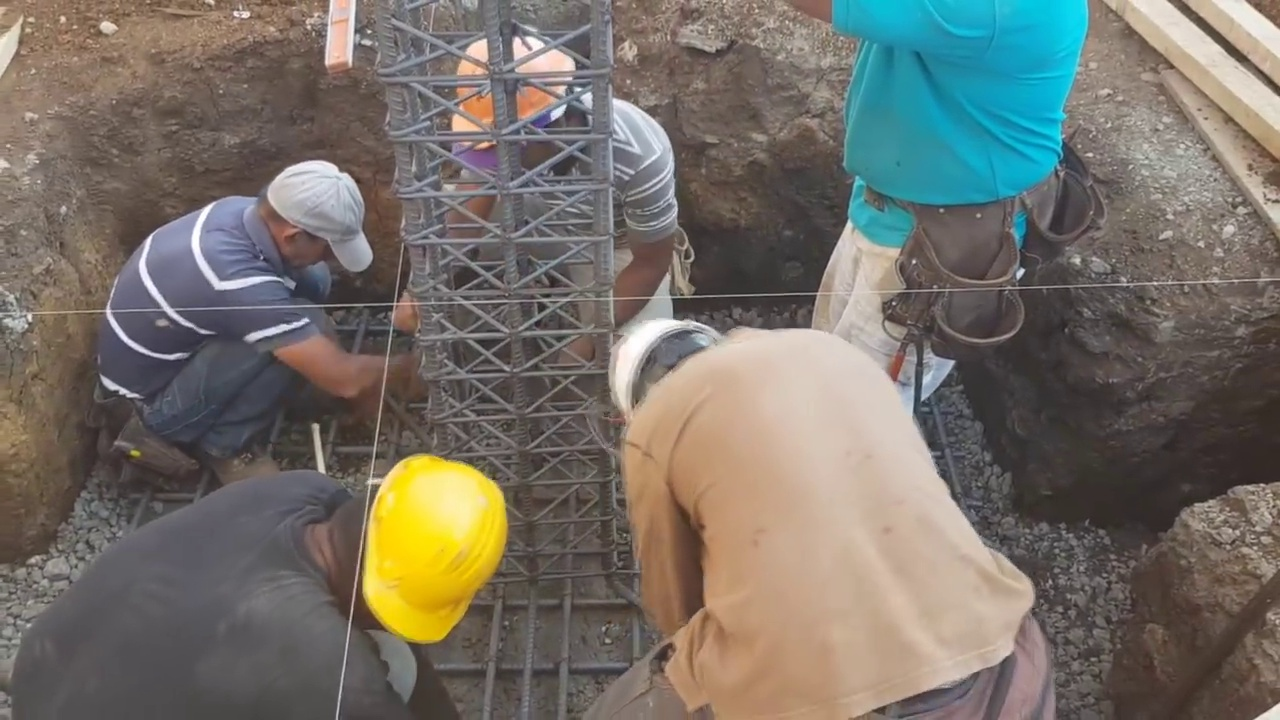helmet: (349, 458, 505, 637), (448, 29, 573, 157), (602, 313, 710, 430)
helmet-off: (250, 161, 368, 279)
helmet-on: (290, 452, 511, 651), (447, 27, 603, 185), (608, 311, 741, 431)
person: (583, 328, 1062, 719), (18, 451, 498, 715), (805, 4, 1087, 430), (89, 159, 434, 461), (427, 22, 700, 352)
